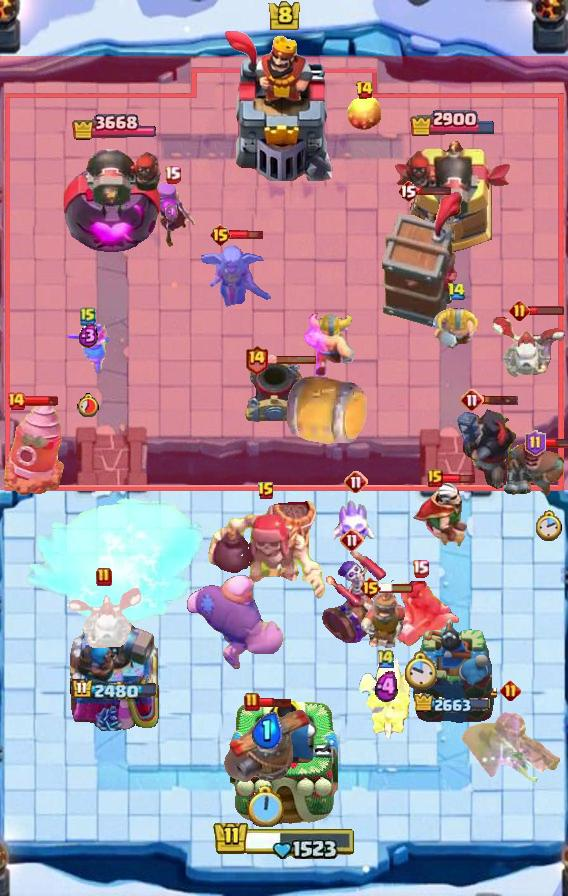balloon: (184, 573, 286, 673)
barbarian-hut: (458, 706, 562, 784)
clock: (212, 817, 356, 859)
dark-prince: (219, 701, 313, 783)
dart-goblin: (380, 190, 464, 328)
dirt: (284, 374, 368, 448)
earthquake: (358, 586, 412, 652)
electro-giant: (206, 492, 326, 602)
electro-spirit: (251, 711, 281, 749), (374, 671, 397, 703), (78, 323, 99, 349), (165, 203, 179, 221)
elixir: (247, 786, 286, 831), (403, 651, 437, 693), (537, 510, 564, 542), (77, 393, 100, 417)
emote: (266, 355, 318, 366), (440, 471, 476, 484), (229, 228, 264, 241), (482, 394, 519, 406), (23, 395, 59, 407), (379, 582, 415, 594), (528, 304, 565, 315), (257, 696, 293, 707), (417, 185, 452, 196), (544, 437, 568, 449)
freeze: (378, 580, 462, 646)
goblin-giant: (304, 311, 356, 377), (432, 306, 480, 349)
hog: (347, 93, 381, 131)
hog-rider: (64, 322, 112, 376)
inferno-dragon: (451, 404, 519, 492)
king-tower: (223, 31, 345, 181), (230, 698, 338, 826)
magic-archer: (0, 400, 66, 498)
mega-knight: (24, 495, 208, 631)
mini-pekka: (65, 584, 143, 652), (490, 316, 568, 380), (357, 658, 415, 742)
mirror: (334, 496, 378, 550)
musketeer: (243, 358, 305, 426)
phoenix-small: (500, 442, 568, 500)
poison: (190, 240, 278, 314)
queen-tower: (409, 616, 497, 731)
rascal-girl: (148, 178, 196, 250)
selected: (72, 112, 156, 144), (409, 108, 497, 136), (70, 678, 157, 702), (414, 692, 492, 715)
skeleton-king: (409, 482, 487, 550)
skeleton-king-bar: (317, 547, 387, 647)
text: (243, 345, 268, 376), (460, 388, 484, 412), (344, 470, 368, 494), (340, 528, 364, 552), (525, 430, 547, 456), (209, 223, 232, 247), (358, 576, 381, 600), (397, 179, 419, 203), (509, 299, 531, 321), (499, 679, 520, 700), (376, 647, 396, 669), (354, 80, 374, 100), (6, 391, 26, 411), (446, 283, 466, 301), (257, 481, 275, 501), (163, 164, 181, 183), (412, 559, 429, 578), (80, 306, 96, 326), (96, 567, 112, 587), (244, 692, 260, 712), (427, 469, 443, 487)
tower-bar: (392, 138, 514, 256), (62, 138, 166, 256), (68, 611, 160, 731)
